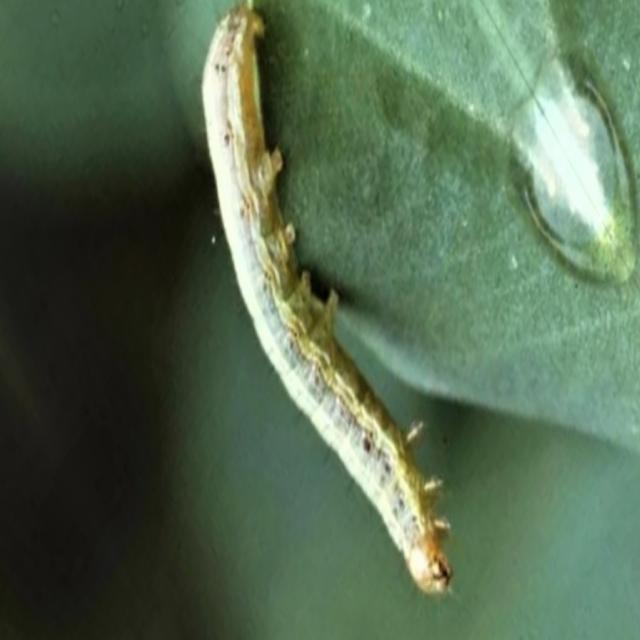armyworm: (199, 0, 454, 597)
